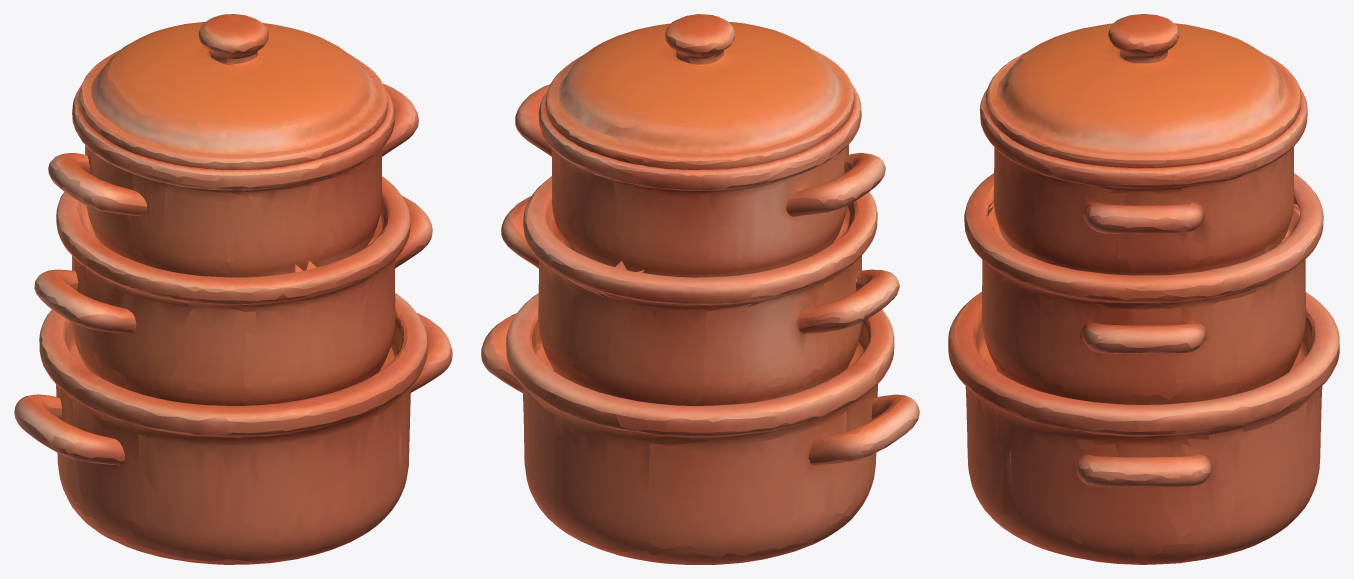
The model's file is x-pots.glb.
3 views of the same model, side by side, from view 1: azimuth 30°, elevation 25°; view 2: azimuth 150°, elevation 25°; view 3: azimuth 270°, elevation 25° (orthographic).
Visible parts, largest first — view 1: geometry_0; view 2: geometry_0; view 3: geometry_0.
Part boxes in pixels (left/top/right/bottom): geometry_0: left=14, top=14, right=452, bottom=564; geometry_0: left=481, top=14, right=919, bottom=564; geometry_0: left=948, top=14, right=1339, bottom=564.
Size of the model in its own units: 0.3367 by 0.38 by 0.2798.
1 material, 1 textured.
